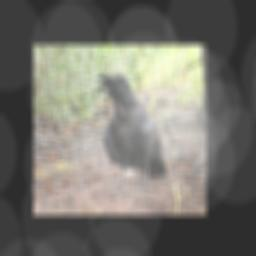Crow: (95, 73, 169, 190)
